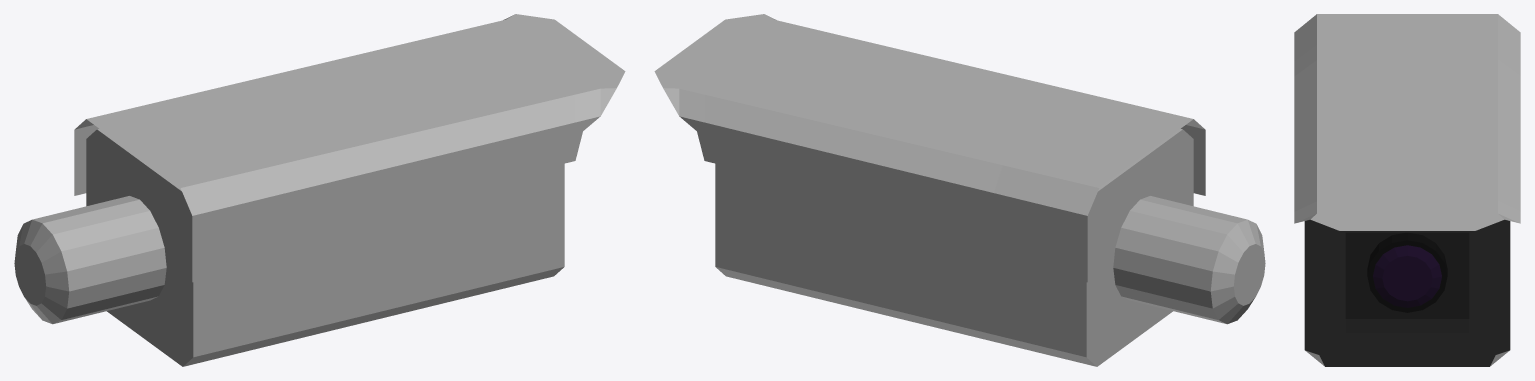
The picture shows the model from 3 angles, left to right: view 1: azimuth 30°, elevation 25°; view 2: azimuth 150°, elevation 25°; view 3: azimuth 270°, elevation 25°; orthographic projection. The views are drawn at different scales.
Parts seen in each view (by area): view 1: Hood, Body, Arm; view 2: Hood, Body, Arm; view 3: Hood, Body, Glass, Lens.
Boxes of the visible parts, bbox=[...] form: Hood: bbox=[74, 14, 625, 282]; Body: bbox=[86, 129, 564, 366]; Arm: bbox=[14, 196, 166, 324]; Hood: bbox=[654, 14, 1205, 282]; Body: bbox=[715, 129, 1193, 366]; Arm: bbox=[1113, 196, 1265, 324]; Hood: bbox=[1294, 14, 1520, 230]; Body: bbox=[1304, 219, 1510, 366]; Glass: bbox=[1346, 233, 1468, 332]; Lens: bbox=[1367, 232, 1447, 312].
Size of the model in its own units: 18.09 by 5.67 by 6.6.
